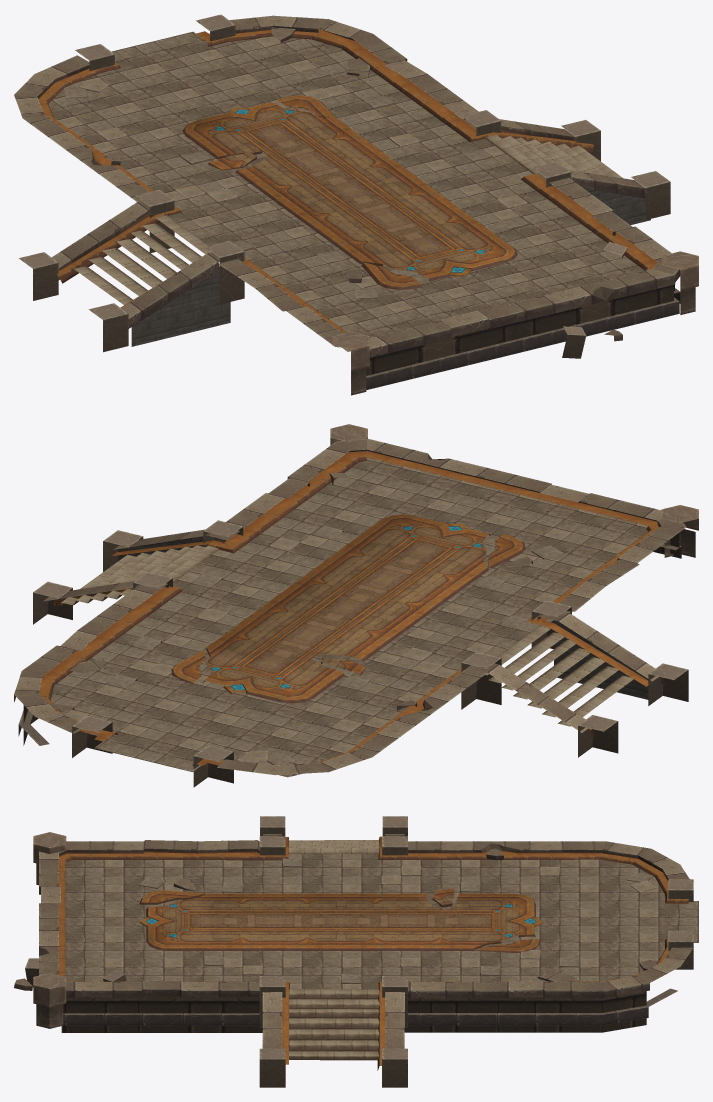
The model's file is terrain_section03_guanka1302.FBX.
3 renders of one model, top to bottom at view 1: azimuth 30°, elevation 25°; view 2: azimuth 150°, elevation 25°; view 3: azimuth 270°, elevation 25°, orthographic. The views are drawn at different scales.
Parts seen in each view (by area): view 1: terrain_section03_guanka1302; view 2: terrain_section03_guanka1302; view 3: terrain_section03_guanka1302.
Boxes of the visible parts, <box> form: terrain_section03_guanka1302: <box>14,14,698,395</box>; terrain_section03_guanka1302: <box>14,424,698,787</box>; terrain_section03_guanka1302: <box>14,816,698,1087</box>.
Bounding box in the file's own units: 39.89 × 4.87 × 47.56.
